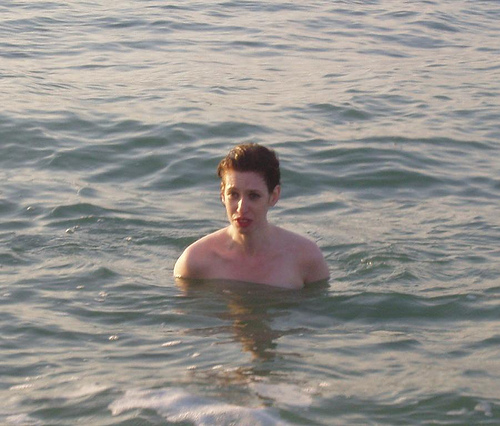without_mask: (218, 163, 283, 236)
